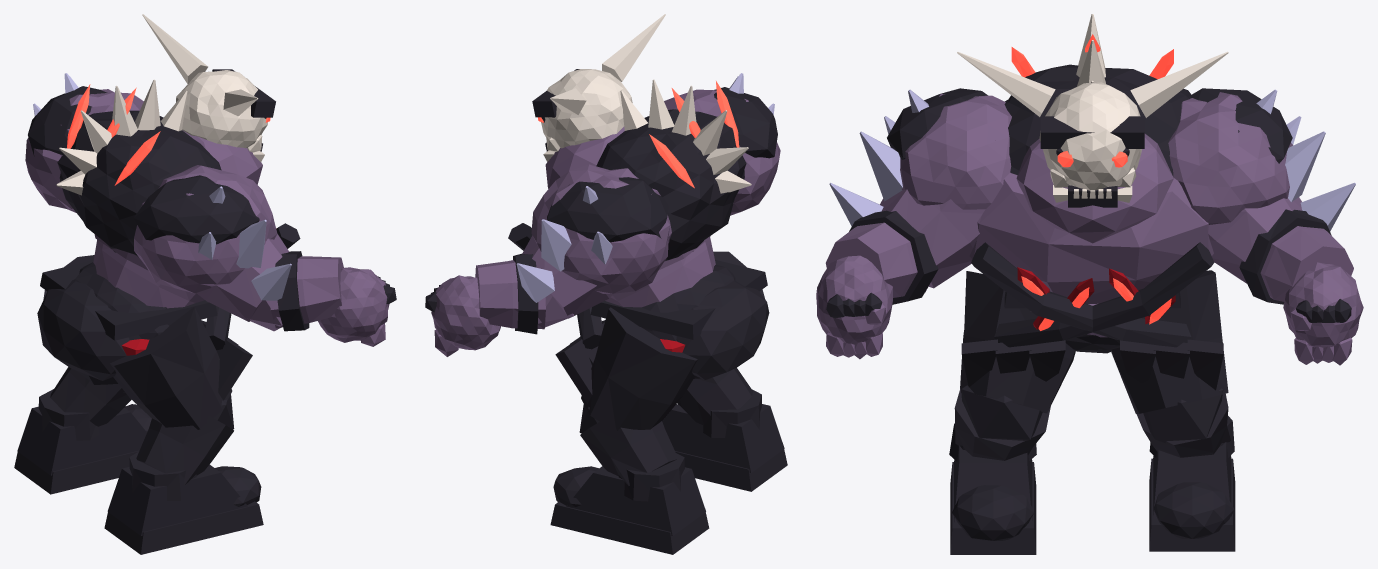
The model's file is inf.mega-alpha-ashen.glb.
The picture shows the model from 3 angles, left to right: view 1: azimuth 30°, elevation 25°; view 2: azimuth 150°, elevation 25°; view 3: azimuth 270°, elevation 25°; orthographic projection. The views are drawn at different scales.
Visible parts, largest first — view 1: torso, armR, footR, hip, footL, legR, head, armL, foreArmR, shinR, handR, shinL; view 2: torso, armL, footL, hip, legL, footR, head, armR, foreArmL, shinL, handL, shinR; view 3: torso, armR, armL, head, footL, footR, handR, handL, foreArmL, legR, legL, foreArmR (+3 smaller).
Boxes of the visible parts, bbox=[...] form: torso: bbox=[56, 79, 300, 400]; armR: bbox=[134, 165, 291, 321]; footR: bbox=[104, 451, 263, 554]; hip: bbox=[37, 260, 217, 380]; footL: bbox=[14, 389, 151, 494]; legR: bbox=[110, 307, 232, 429]; head: bbox=[142, 14, 275, 161]; armL: bbox=[25, 73, 143, 212]; foreArmR: bbox=[242, 251, 343, 331]; shinR: bbox=[136, 394, 234, 484]; handR: bbox=[318, 267, 396, 346]; shinL: bbox=[50, 367, 131, 426]; torso: bbox=[508, 79, 751, 403]; armL: bbox=[516, 164, 671, 318]; footL: bbox=[550, 453, 709, 554]; hip: bbox=[590, 259, 769, 379]; legL: bbox=[581, 307, 697, 430]; footR: bbox=[662, 389, 787, 491]; head: bbox=[532, 14, 665, 161]; armR: bbox=[664, 73, 780, 215]; foreArmL: bbox=[475, 253, 573, 334]; shinL: bbox=[579, 404, 678, 485]; handL: bbox=[425, 275, 500, 356]; shinR: bbox=[677, 367, 752, 425]; torso: bbox=[961, 14, 1223, 390]; armR: bbox=[829, 88, 1011, 288]; armL: bbox=[1168, 88, 1355, 283]; head: bbox=[957, 51, 1228, 207]; footL: bbox=[1149, 416, 1235, 551]; footR: bbox=[949, 423, 1036, 554]; handR: bbox=[816, 255, 892, 359]; handL: bbox=[1283, 262, 1363, 365]; foreArmL: bbox=[1239, 209, 1353, 304]; legR: bbox=[960, 271, 1075, 413]; legL: bbox=[1110, 270, 1228, 413]; foreArmR: bbox=[825, 210, 938, 304].
Size of the model in its own units: 1.52 by 2.65 by 2.62.
